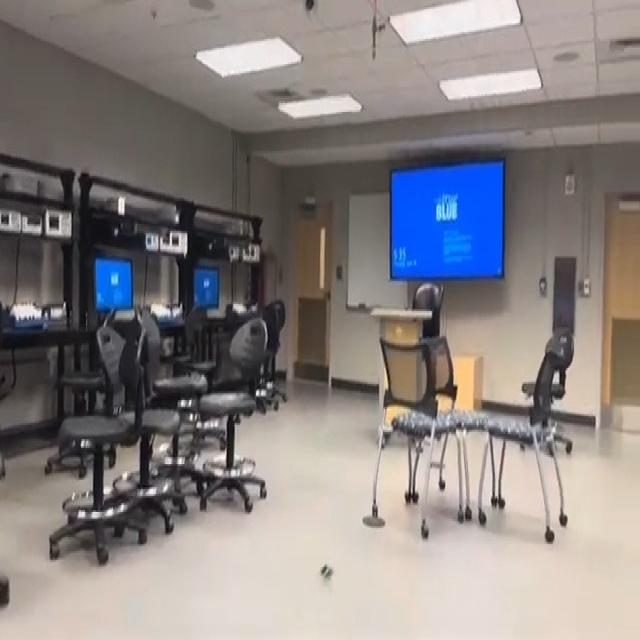drone: (312, 551, 339, 596)
